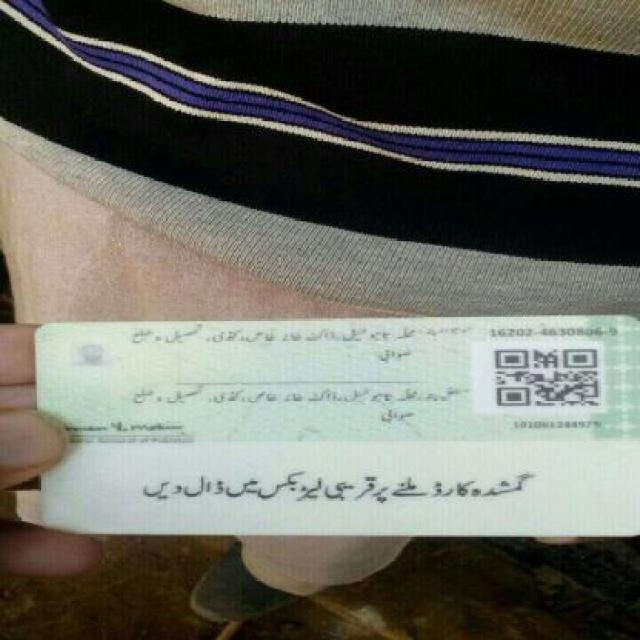Back: (23, 312, 639, 540)
